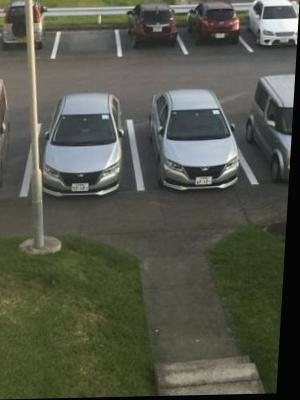License_Plate: (196, 175, 213, 185), (73, 182, 89, 192)
